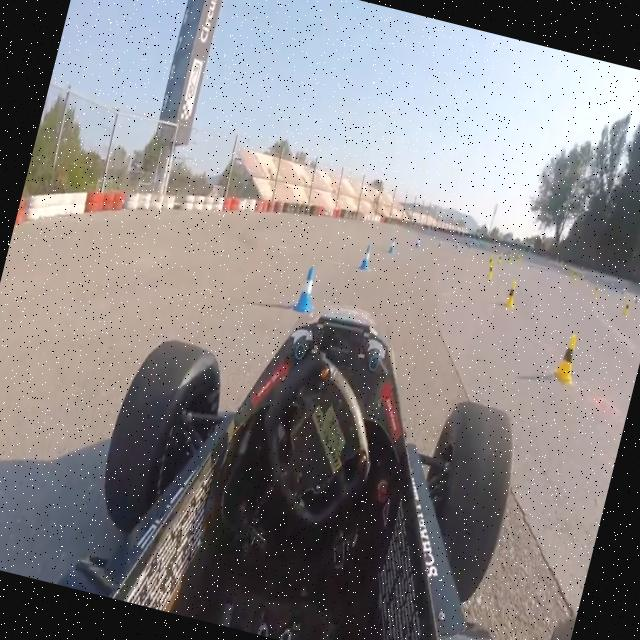blue_cone: (292, 264, 324, 316), (358, 244, 374, 272), (386, 235, 398, 256)
yellow_cone: (552, 330, 584, 385), (502, 278, 520, 310), (484, 260, 496, 280)
